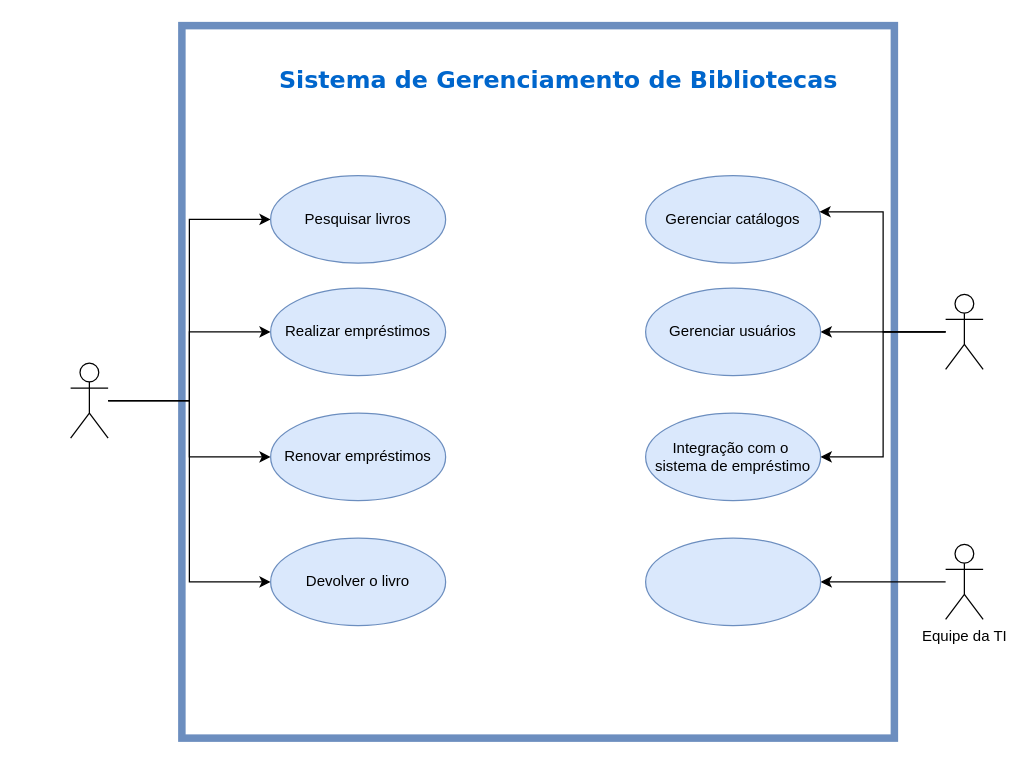
Some shapes in this 1029 by 763 pixel diagram are drawn without their labels. The shapes that lost their labels are listed below. From the top down, each one's box as (x1, y1, x2, y2) in pixels, then its label:
(944, 293, 983, 369): Bibliotecário
(69, 362, 108, 438): Cliente da Biblioteca
(644, 537, 821, 626): Migrar dados do sistema antigo
